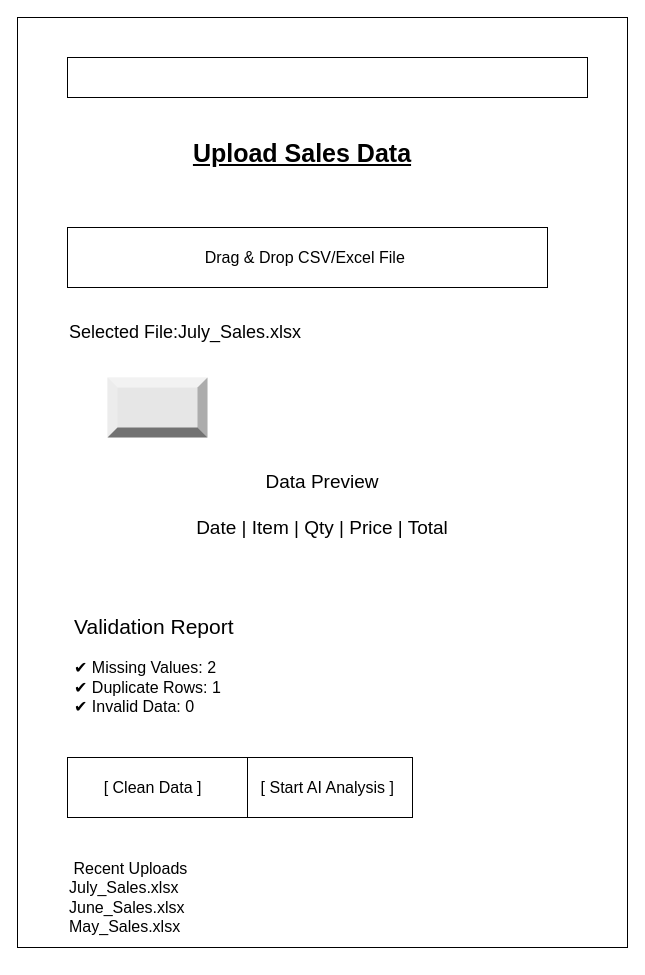
This 645x975 diagram has some shape labels left out. The shapes that lost their labels are listed below. From the top down, each one's box as (x1, y1, x2, y2) in pixels, then its label:
(66, 56, 588, 98): Logo | Dashboard | Upload | Reports | Logout
(107, 377, 207, 437): Upload
